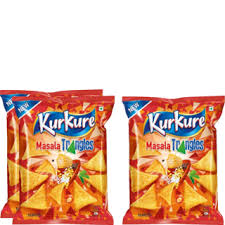kurkure: (35, 111, 93, 137), (147, 112, 205, 135)
plastic: (5, 90, 110, 223), (131, 96, 219, 225)
wrapper: (10, 99, 225, 214)
